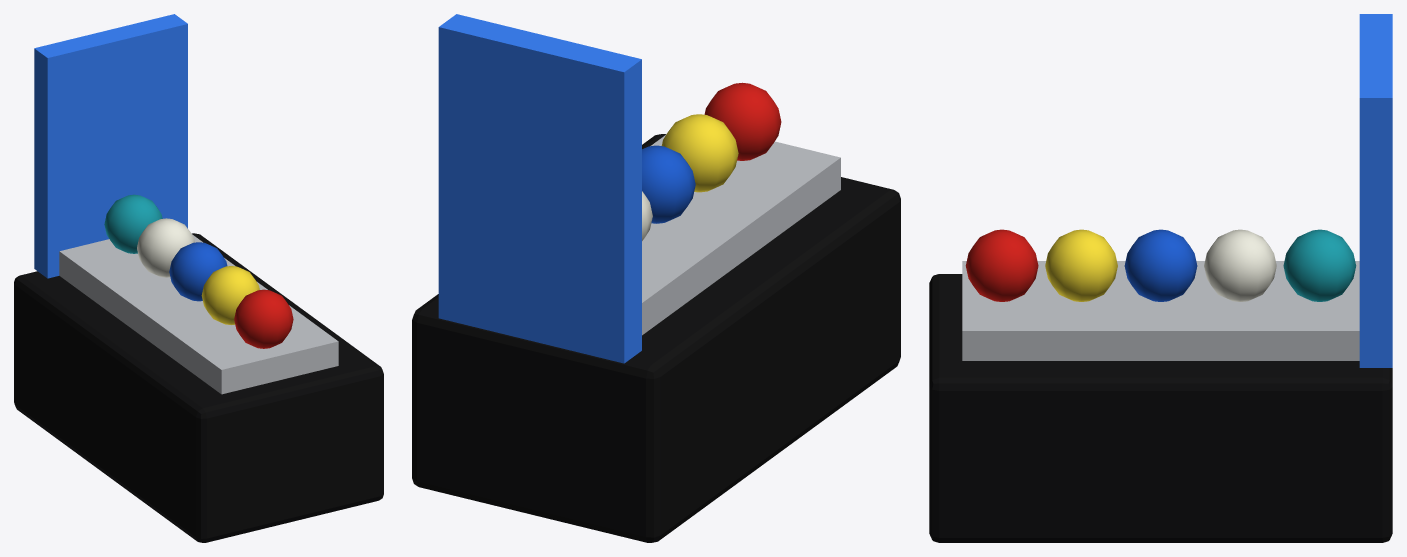
Rendered from ball_return.glb.
The picture shows the model from 3 angles, left to right: view 1: azimuth 30°, elevation 25°; view 2: azimuth 150°, elevation 25°; view 3: azimuth 270°, elevation 25°; orthographic projection. The views are drawn at different scales.
Parts seen in each view (by area): view 1: ball_return; view 2: ball_return; view 3: ball_return.
Boxes of the visible parts, <box> form: ball_return: <box>14,14,383,542</box>; ball_return: <box>412,14,900,542</box>; ball_return: <box>929,14,1392,542</box>.
Bounding box in the file's own units: 0.8 × 1.45 × 1.4.
1 material, 1 textured.
